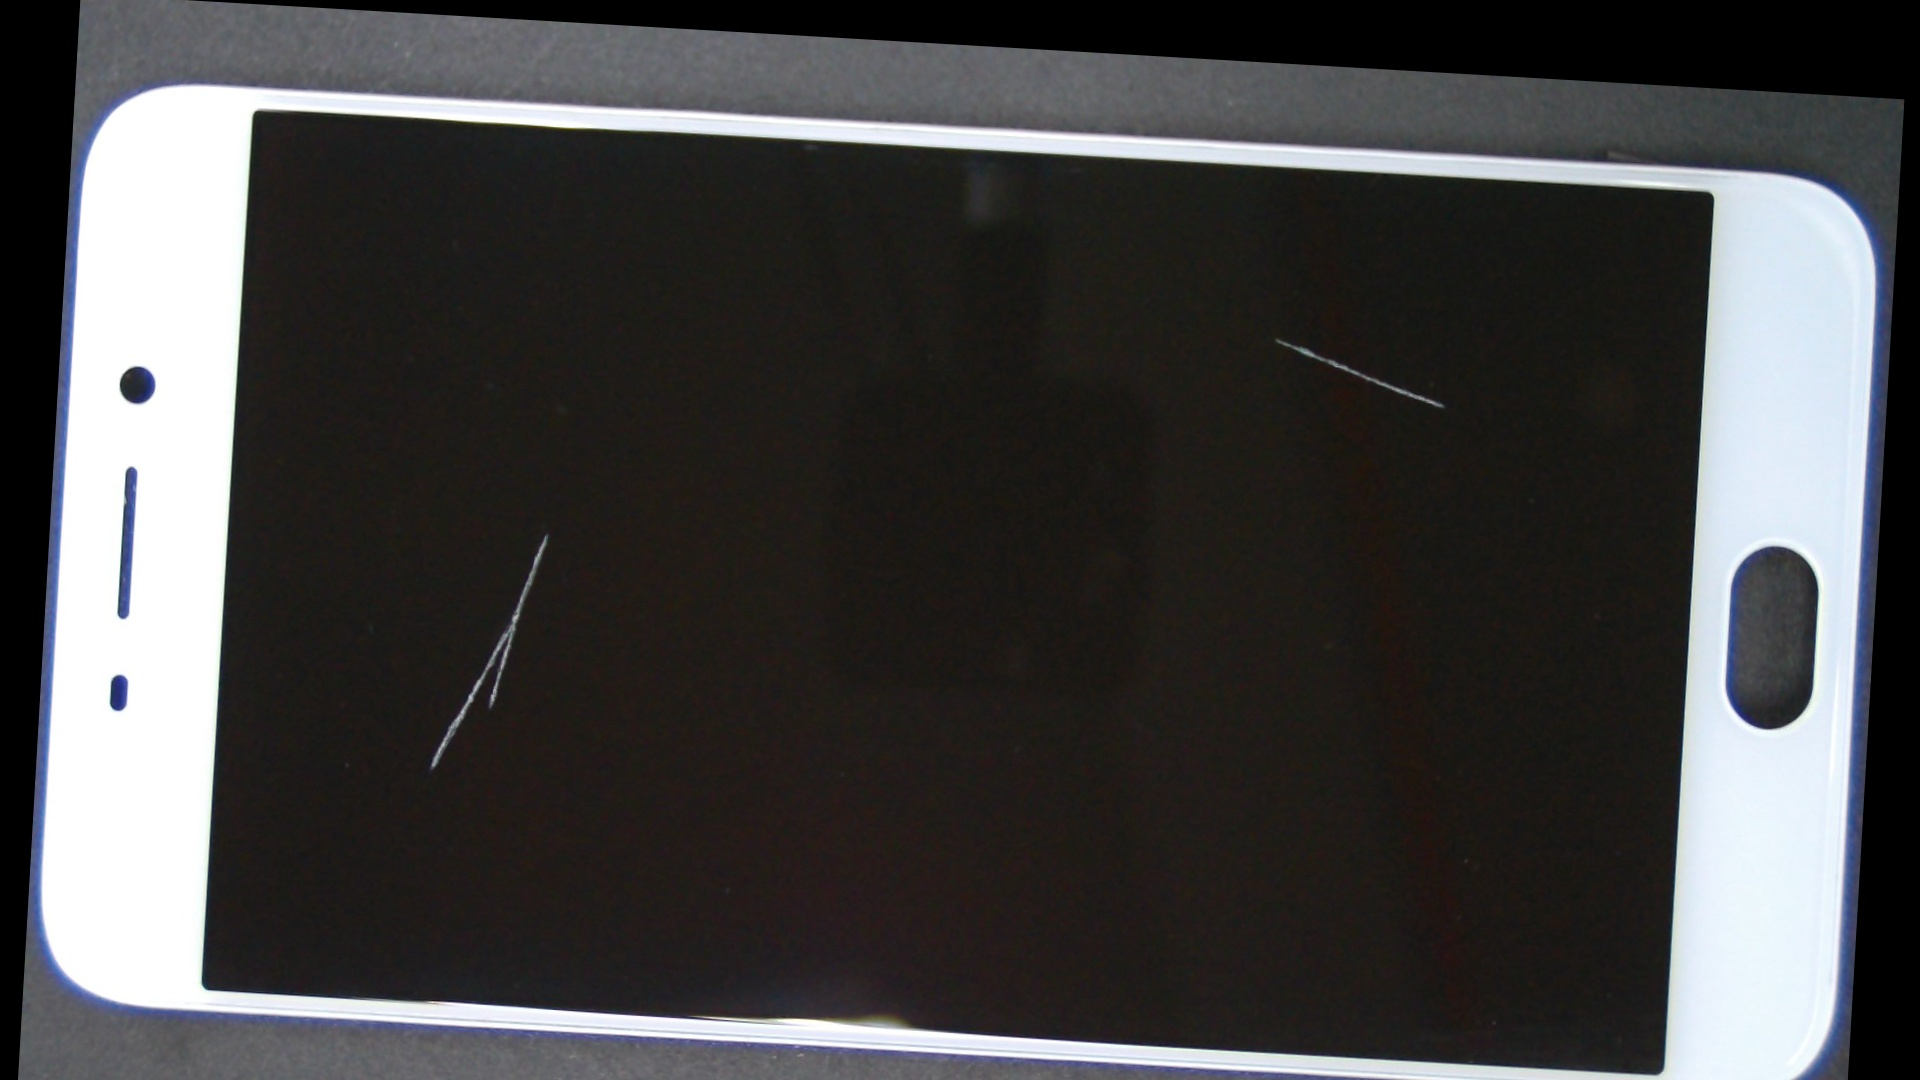oil: (663, 166, 1891, 510), (285, 262, 811, 802)
